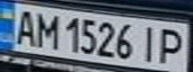1: (60, 14, 81, 53)
2: (93, 19, 118, 58)
5: (78, 16, 100, 56)
6: (115, 20, 139, 61)
A: (9, 7, 39, 46)
I: (136, 22, 163, 63)
M: (30, 10, 60, 49)
P: (154, 25, 190, 65)
